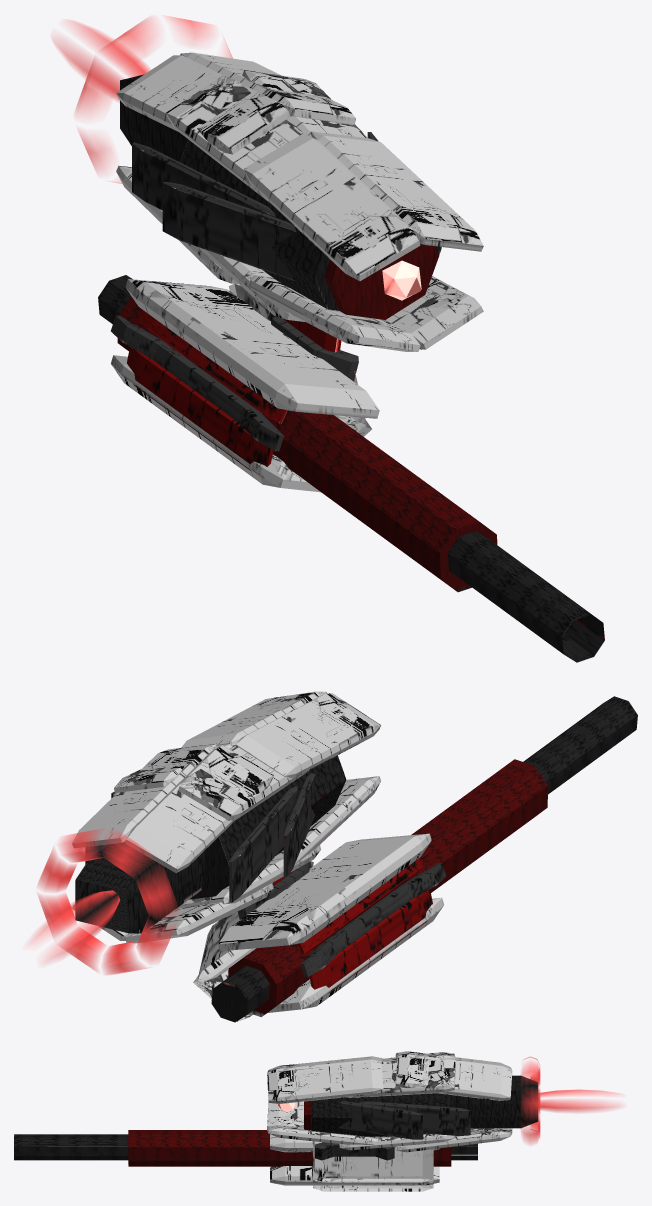
The model's file is zalek_drone_light.gltf.
3 renders of one model, top to bottom at view 1: azimuth 30°, elevation 25°; view 2: azimuth 150°, elevation 25°; view 3: azimuth 270°, elevation 25°, orthographic. The views are drawn at different scales.
Visible parts, largest first — view 1: base_glow, glow_torus; view 2: base_glow, glow_torus; view 3: base_glow, glow_torus.
Boxes of the visible parts, box(x1,y1,x2,y2) form: base_glow: box(98, 52, 604, 662); glow_torus: box(52, 16, 232, 183); base_glow: box(72, 691, 637, 1022); glow_torus: box(30, 829, 177, 974); base_glow: box(14, 1051, 538, 1191); glow_torus: box(521, 1056, 621, 1144).
Size of the model in its own units: 2.32 by 2.63 by 9.99.
2 materials, 2 textured.
